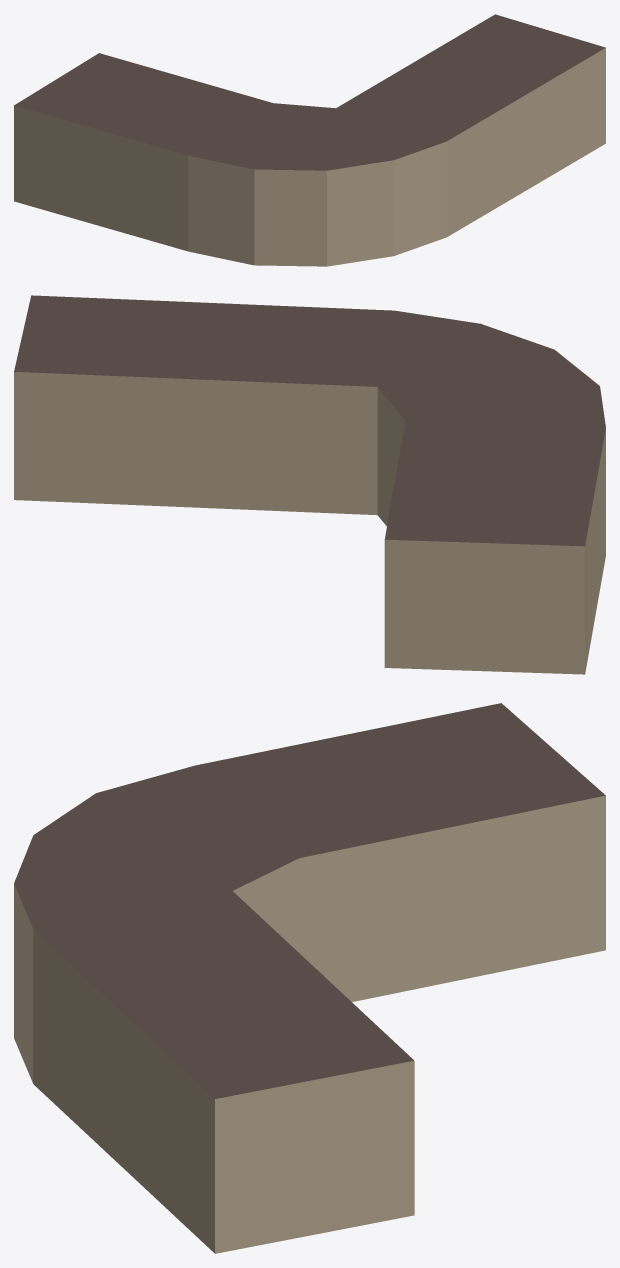
3 renders of one model, top to bottom at view 1: azimuth 30°, elevation 25°; view 2: azimuth 150°, elevation 25°; view 3: azimuth 270°, elevation 25°, orthographic. The views are drawn at different scales.
Parts seen in each view (by area): view 1: HP-w859088438; view 2: HP-w859088438; view 3: HP-w859088438.
Boxes of the visible parts, left/top/right/bottom form: HP-w859088438: left=14, top=14, right=605, bottom=266; HP-w859088438: left=14, top=295, right=605, bottom=674; HP-w859088438: left=14, top=703, right=605, bottom=1253.
Size of the model in its own units: 49.4 by 9 by 31.2.
